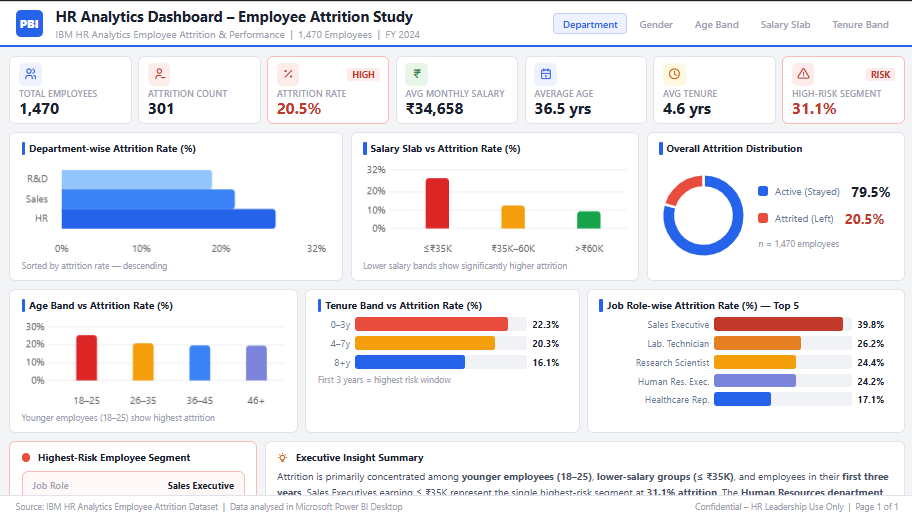

This screenshot's page, from the dashboard's own definition file:
{"tool":"powerbi","page":{"name":"Page 1","canvas":[1600,900],"ordinal":0},"visuals":[{"type":"textbox","box":[0,0,1584,48],"z":0},{"type":"cardVisual","fields":{"Data":["IBM_HR_Attrition_Dataset.Average Tenure"]},"box":[1056,64,256,112],"z":1000},{"type":"cardVisual","fields":{"Data":["IBM_HR_Attrition_Dataset.Attrition Rate"]},"box":[528,64,256,112],"z":2000},{"type":"cardVisual","fields":{"Data":["IBM_HR_Attrition_Dataset.Average Age"]},"box":[1328,64,256,112],"z":3000},{"type":"cardVisual","fields":{"Data":["IBM_HR_Attrition_Dataset.Average Salary"]},"box":[800,64,240,112],"z":4000},{"type":"cardVisual","fields":{"Data":["IBM_HR_Attrition_Dataset.Employees Left"]},"box":[272,64,240,112],"z":5000},{"type":"cardVisual","fields":{"Data":["IBM_HR_Attrition_Dataset.Total Employees"]},"box":[0,64,256,112],"z":6000},{"type":"clusteredBarChart","fields":{"Category":["IBM_HR_Attrition_Dataset.Department"],"Y":["IBM_HR_Attrition_Dataset.Employees Left"]},"box":[816,304,400,192],"z":7000},{"type":"donutChart","title":"Overall Attrition Distribution","fields":{"Y":["CountNonNull(IBM_HR_Attrition_Dataset.EmployeeNumber)"],"Category":["IBM_HR_Attrition_Dataset.Attrition"]},"box":[0,304,368,192],"z":8000},{"type":"columnChart","fields":{"Category":["IBM_HR_Attrition_Dataset.AgeBand"],"Y":["IBM_HR_Attrition_Dataset.Employees Left"]},"box":[0,528,368,176],"z":9000},{"type":"clusteredBarChart","title":"Tenure-wise Attrition","fields":{"Y":["IBM_HR_Attrition_Dataset.Employees Left"],"Category":["IBM_HR_Attrition_Dataset.TenureBand"]},"box":[400,304,400,192],"z":10000},{"type":"clusteredBarChart","fields":{"Y":["IBM_HR_Attrition_Dataset.Employees Left"],"Category":["IBM_HR_Attrition_Dataset.JobRole"]},"box":[400,528,400,176],"z":11000},{"type":"advancedSlicerVisual","fields":{"Values":["IBM_HR_Attrition_Dataset.Department"]},"box":[0,192,448,80],"z":12000},{"type":"advancedSlicerVisual","fields":{"Values":["IBM_HR_Attrition_Dataset.Gender"]},"box":[464,192,352,80],"z":13000},{"type":"advancedSlicerVisual","fields":{"Values":["IBM_HR_Attrition_Dataset.SalarySlab"]},"box":[832,192,384,80],"z":15000},{"type":"advancedSlicerVisual","fields":{"Values":["IBM_HR_Attrition_Dataset.TenureBand"]},"box":[1232,192,352,80],"z":16000},{"type":"clusteredBarChart","title":"Salary Slab vs Attrition Rate","fields":{"Category":["IBM_HR_Attrition_Dataset.SalarySlab"],"Y":["IBM_HR_Attrition_Dataset.Attrition Rate"]},"box":[1232,304,352,192],"z":17000},{"type":"columnChart","title":"Average Monthly Income by Department","fields":{"Category":["IBM_HR_Attrition_Dataset.Department"],"Y":["IBM_HR_Attrition_Dataset.Average Salary"]},"box":[832,528,384,176],"z":18000},{"type":"clusteredBarChart","title":"Attrition by Overtime","fields":{"Category":["IBM_HR_Attrition_Dataset.OverTime"],"Y":["IBM_HR_Attrition_Dataset.Employees Left"]},"box":[1232,528,352,176],"z":19000},{"type":"clusteredBarChart","title":"Job Satisfaction vs Attrition","fields":{"Category":["IBM_HR_Attrition_Dataset.JobSatisfaction"],"Y":["IBM_HR_Attrition_Dataset.Employees Left"]},"box":[0,736,560,160],"z":20000},{"type":"advancedSlicerVisual","fields":{"Values":["IBM_HR_Attrition_Dataset.AgeBand"]},"box":[1232,736,368,160],"z":20002},{"type":"columnChart","title":"WorkLifeBalance vs Attrition","fields":{"Category":["IBM_HR_Attrition_Dataset.WorkLifeBalance"],"Y":["CountNonNull(IBM_HR_Attrition_Dataset.EmployeeNumber)"],"Series":["IBM_HR_Attrition_Dataset.Attrition"]},"box":[576,736,640,160],"z":20003}]}

Visuals, with their boxes in screenshot pixels (x1, y1, x2, y2), scaled from the page's 1600x900 canvas onto the 912x516 screenshot:
textbox: x1=0, y1=0, x2=903, y2=28
cardVisual - IBM_HR_Attrition_Dataset.Average Tenure: x1=602, y1=37, x2=748, y2=101
cardVisual - IBM_HR_Attrition_Dataset.Attrition Rate: x1=301, y1=37, x2=447, y2=101
cardVisual - IBM_HR_Attrition_Dataset.Average Age: x1=757, y1=37, x2=903, y2=101
cardVisual - IBM_HR_Attrition_Dataset.Average Salary: x1=456, y1=37, x2=593, y2=101
cardVisual - IBM_HR_Attrition_Dataset.Employees Left: x1=155, y1=37, x2=292, y2=101
cardVisual - IBM_HR_Attrition_Dataset.Total Employees: x1=0, y1=37, x2=146, y2=101
clusteredBarChart - IBM_HR_Attrition_Dataset.Department x IBM_HR_Attrition_Dataset.Employees Left: x1=465, y1=174, x2=693, y2=284
"Overall Attrition Distribution" donutChart: x1=0, y1=174, x2=210, y2=284
columnChart - IBM_HR_Attrition_Dataset.AgeBand x IBM_HR_Attrition_Dataset.Employees Left: x1=0, y1=303, x2=210, y2=404
"Tenure-wise Attrition" clusteredBarChart: x1=228, y1=174, x2=456, y2=284
clusteredBarChart - IBM_HR_Attrition_Dataset.Employees Left x IBM_HR_Attrition_Dataset.JobRole: x1=228, y1=303, x2=456, y2=404
advancedSlicerVisual - IBM_HR_Attrition_Dataset.Department: x1=0, y1=110, x2=255, y2=156
advancedSlicerVisual - IBM_HR_Attrition_Dataset.Gender: x1=264, y1=110, x2=465, y2=156
advancedSlicerVisual - IBM_HR_Attrition_Dataset.SalarySlab: x1=474, y1=110, x2=693, y2=156
advancedSlicerVisual - IBM_HR_Attrition_Dataset.TenureBand: x1=702, y1=110, x2=903, y2=156
"Salary Slab vs Attrition Rate" clusteredBarChart: x1=702, y1=174, x2=903, y2=284
"Average Monthly Income by Department" columnChart: x1=474, y1=303, x2=693, y2=404
"Attrition by Overtime" clusteredBarChart: x1=702, y1=303, x2=903, y2=404
"Job Satisfaction vs Attrition" clusteredBarChart: x1=0, y1=422, x2=319, y2=514
advancedSlicerVisual - IBM_HR_Attrition_Dataset.AgeBand: x1=702, y1=422, x2=911, y2=514
"WorkLifeBalance vs Attrition" columnChart: x1=328, y1=422, x2=693, y2=514
